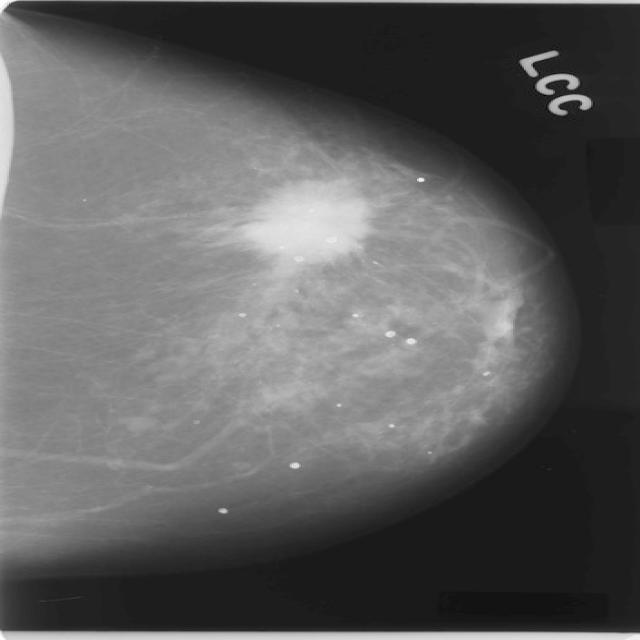tumour: (239, 178, 372, 262)
